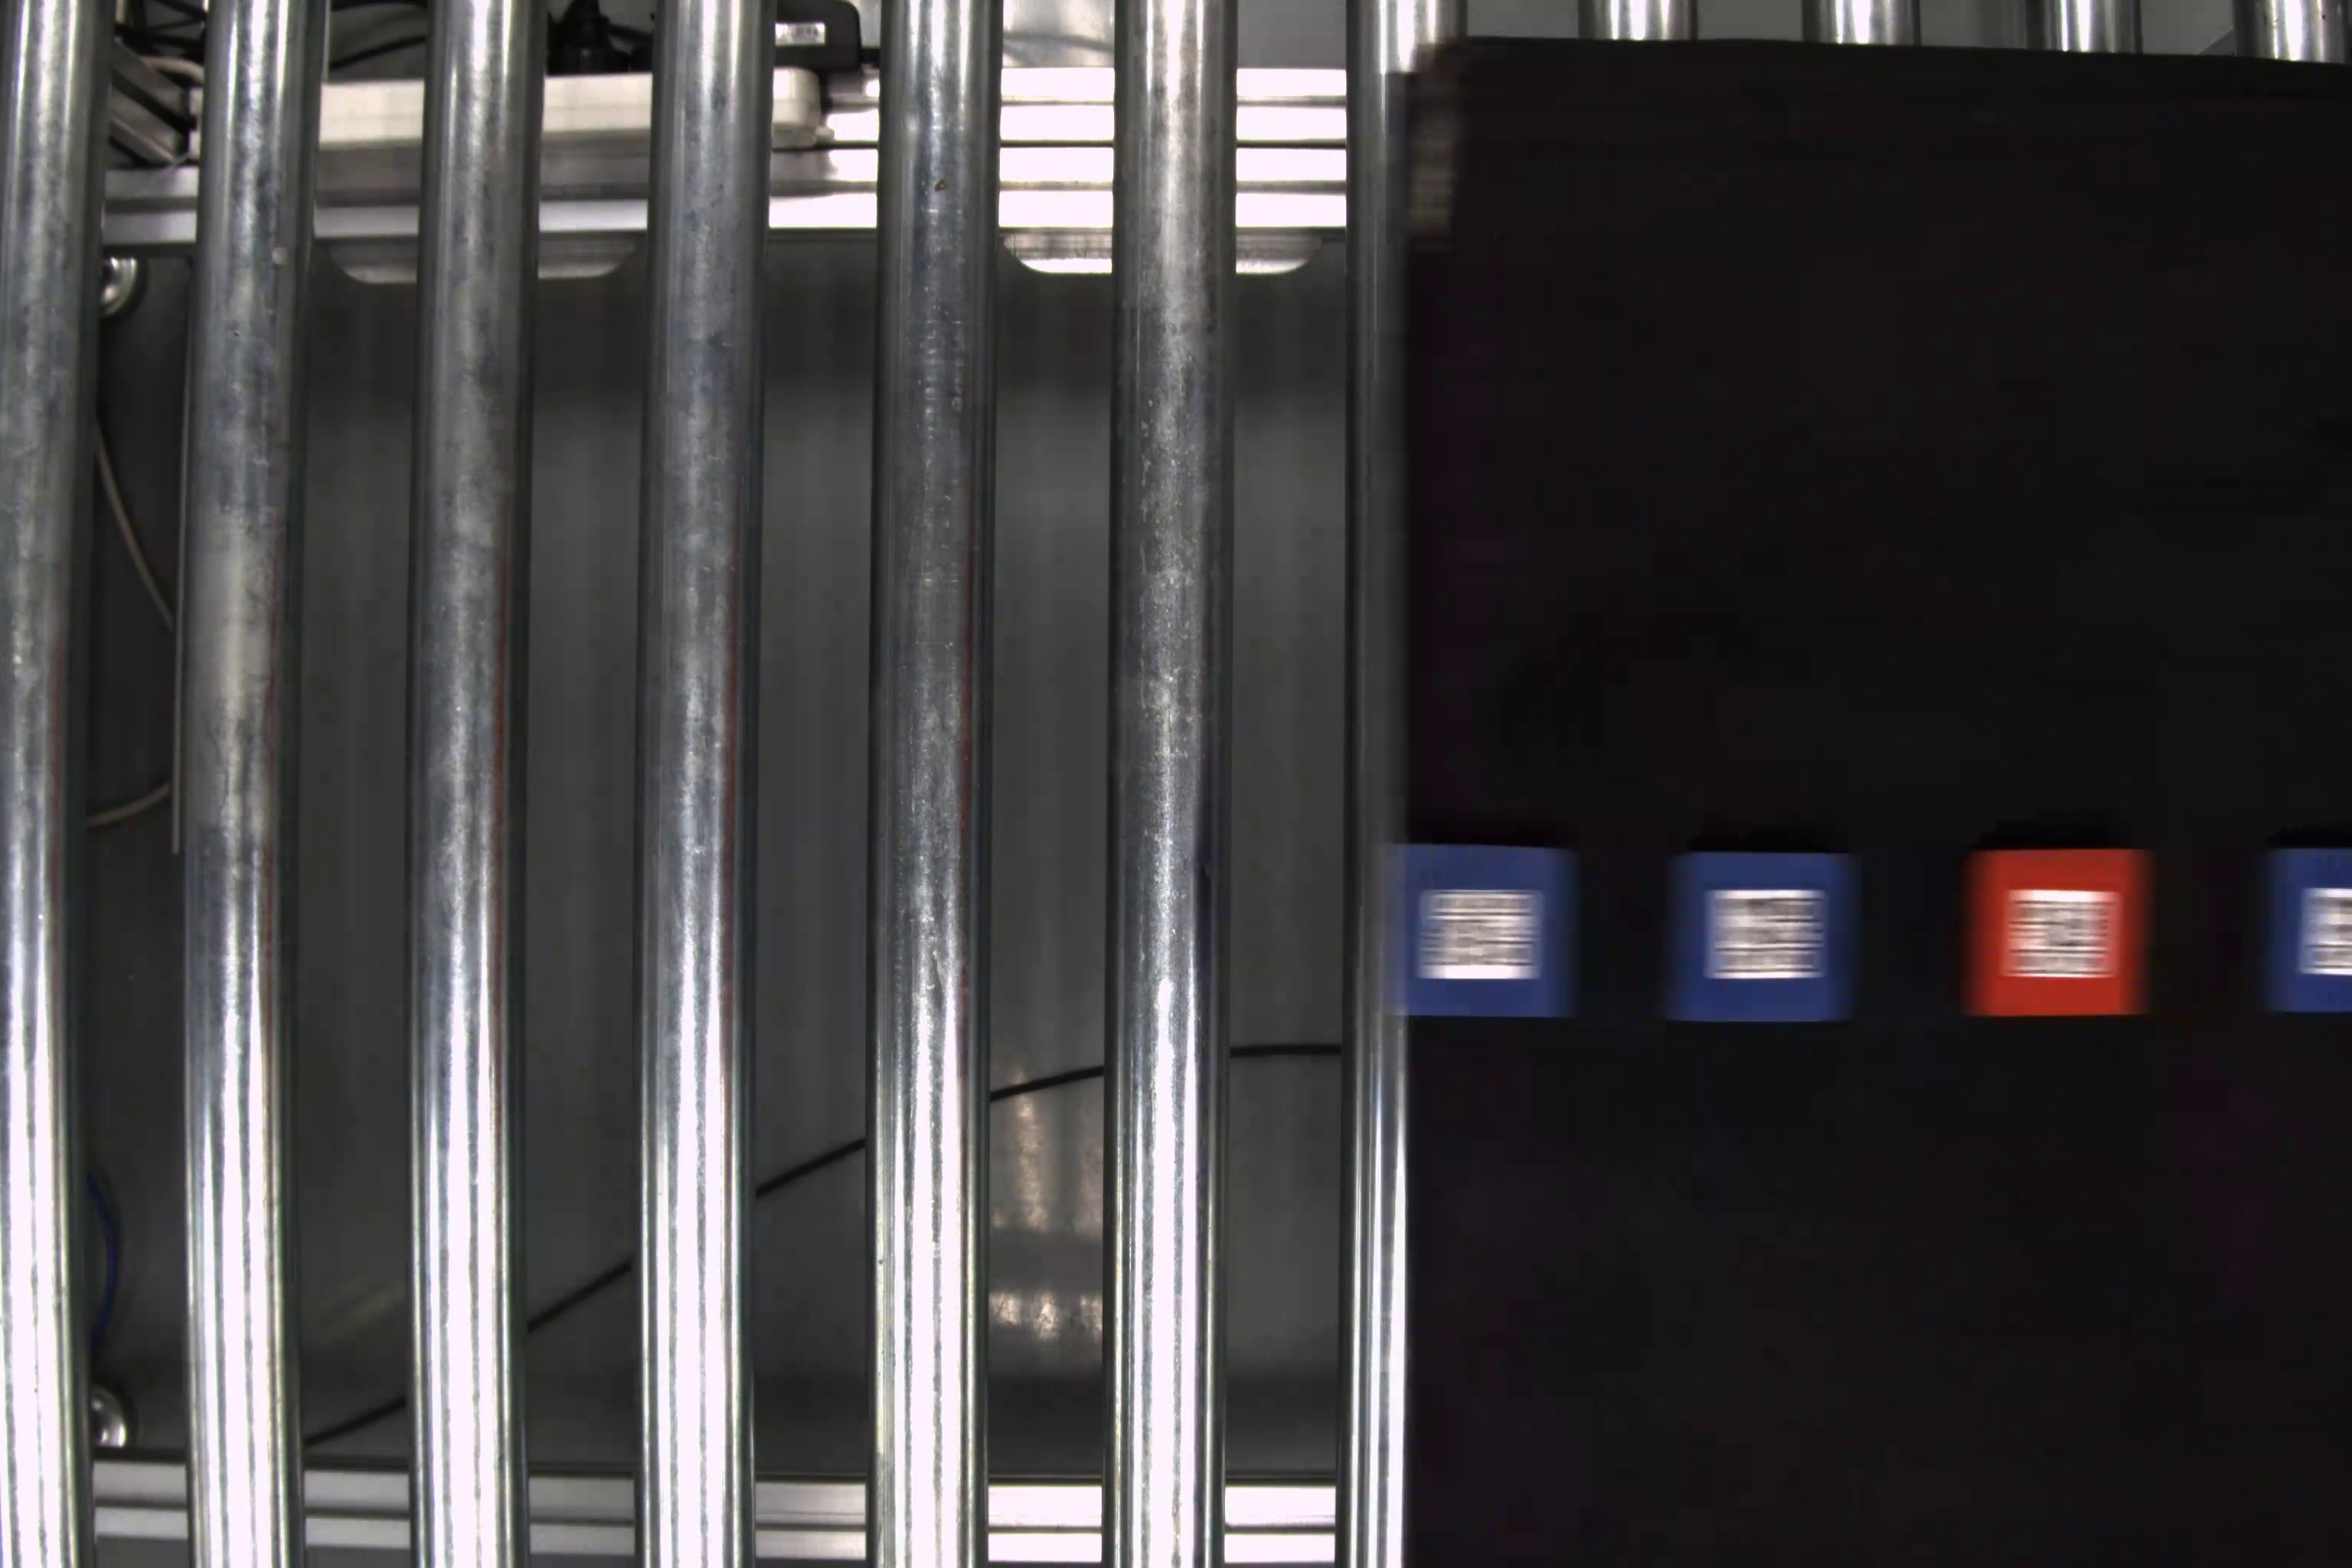wood: (1381, 836, 1584, 1017), (1671, 850, 1864, 1022), (1967, 843, 2158, 1013), (2266, 845, 2348, 1013)
